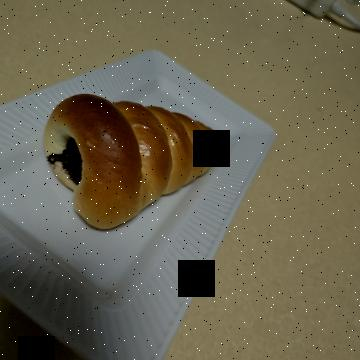cream horn: (75, 116, 247, 318)
